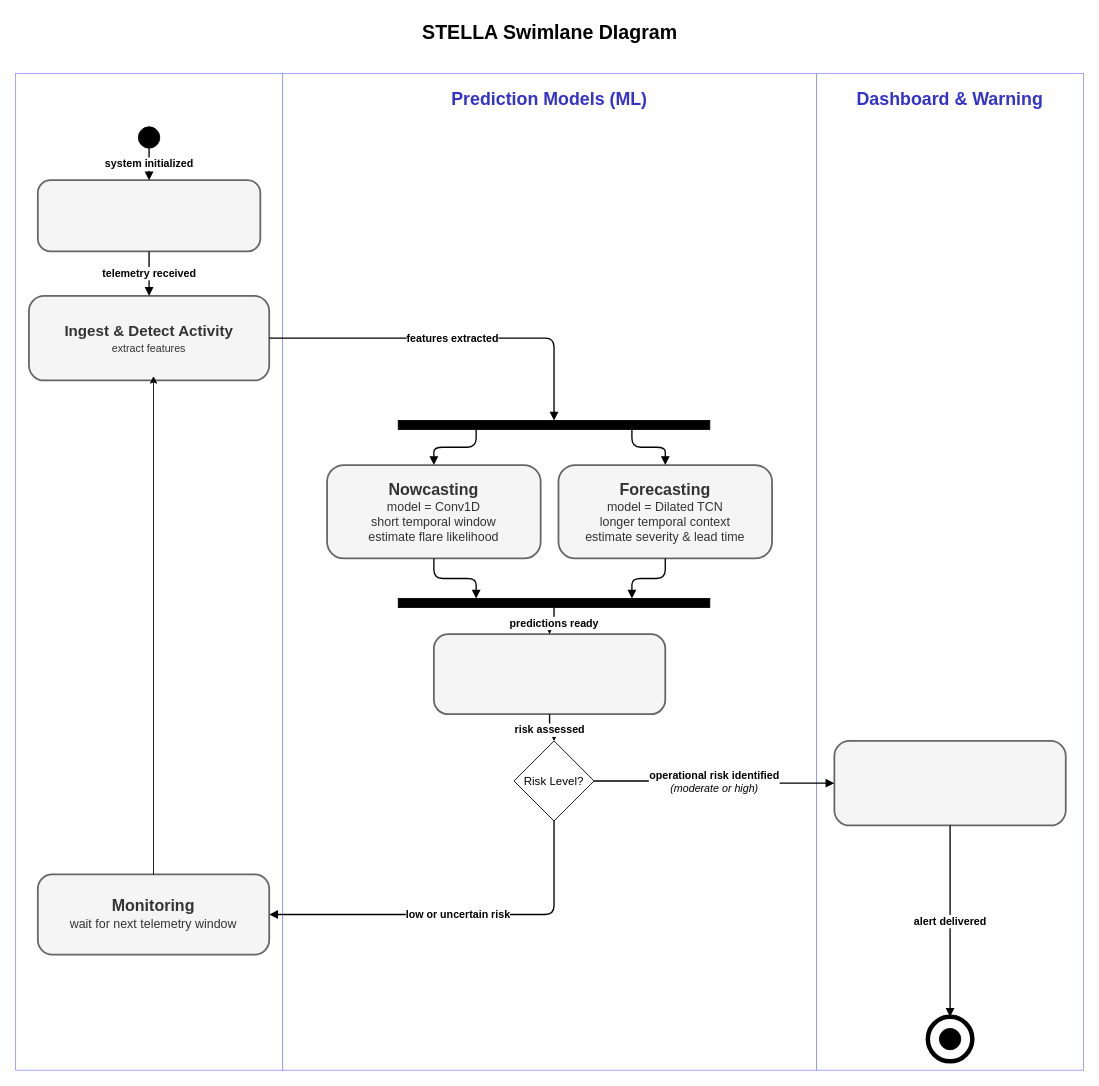
This 1099x1086 diagram has some shape labels left out. Each missing label, with the box of its shape:
Aggregate Predictions & assess risk: (433, 633, 666, 715)
Telemetry & Feature Extraction: (15, 73, 283, 1070)
Telemetry Ready: (36, 179, 261, 252)
Warning Published publish warning update dashboard: (833, 740, 1066, 826)
